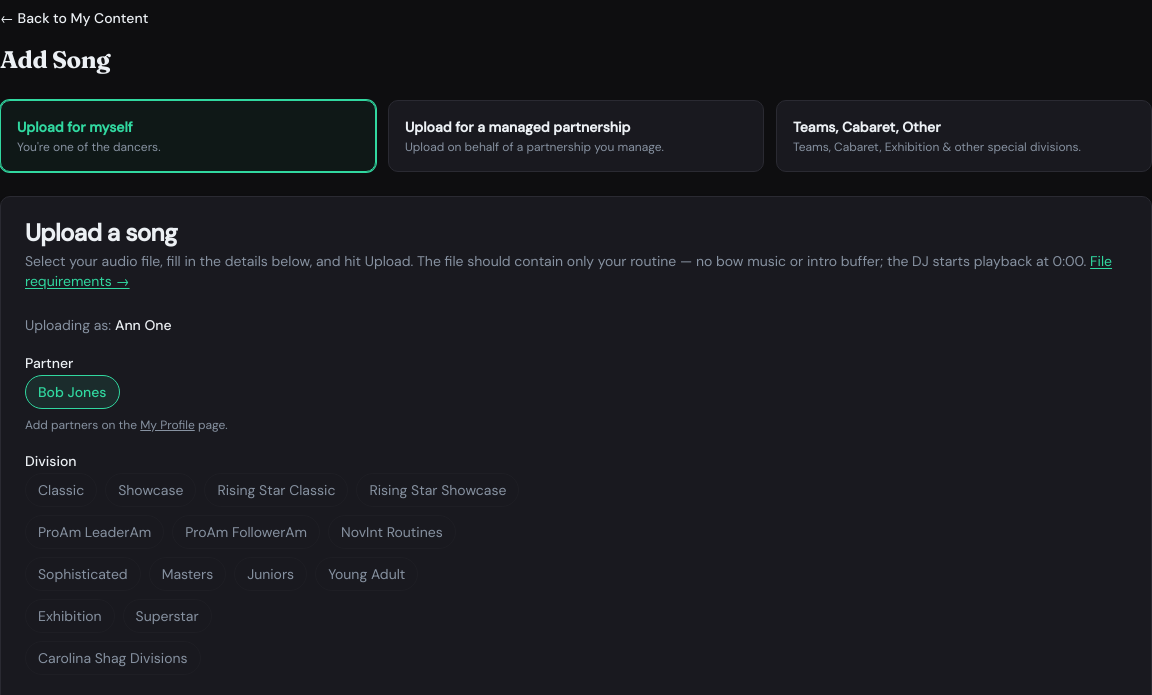
Scenario: AddSongPage — a managed partnerships failure is contained › still loads partners and the user profile when /v1/managed-partnerships rejects
Expected: the text "Uploading as: Ann One" is shown, [25, 316, 172, 334]
Expected: the text "Ann One" is shown, [115, 316, 172, 334]
What coordinates should you click on to do the following:
click the button "Upload for a managed partnership"
I would click on:
 (576, 136)
Its box is [388, 100, 764, 172].
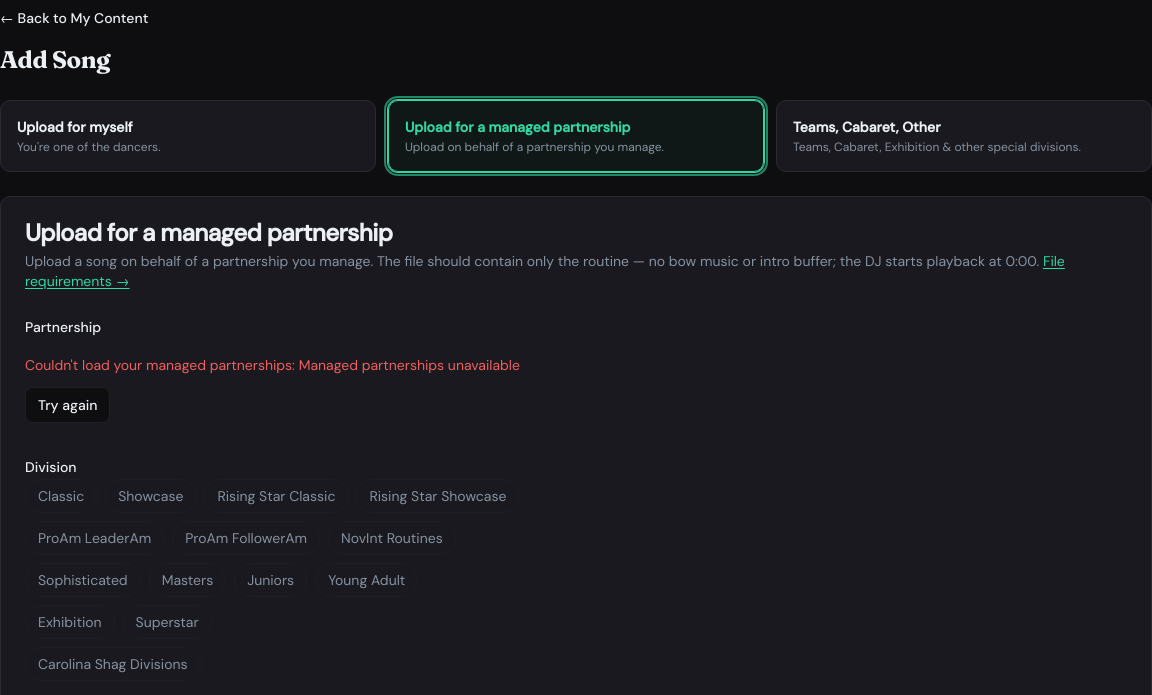
Expected: the message shows "Couldn't load your managed partnerships: Managed partnerships unavailable", [25, 356, 520, 423]
